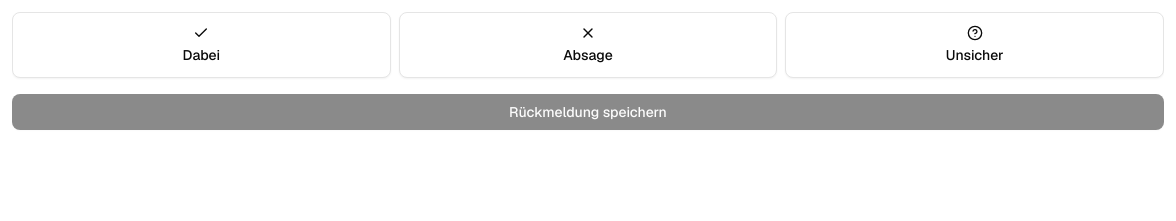
Test: RsvpWidget › reveals the carpool-seat stepper only after choosing Dabei
The image size is (1176, 221).
Check: the text "Freie Plätze im Auto" is not shown
Click the button "Dabei" at (201, 45), box [12,12,391,78]
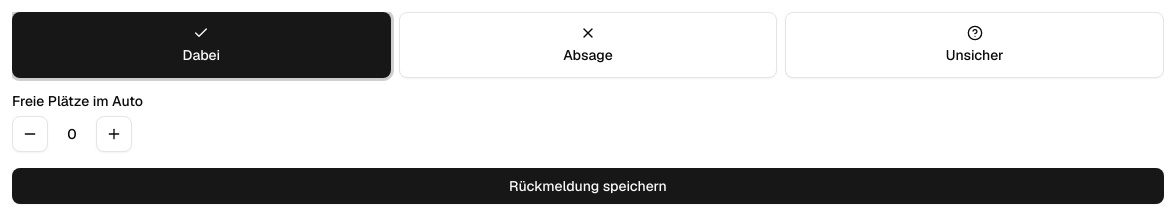
Check: the text "Freie Plätze im Auto" is shown, box [12,92,143,110]
Check: the button "Rückmeldung speichern" is enabled, box [12,168,1164,204]
